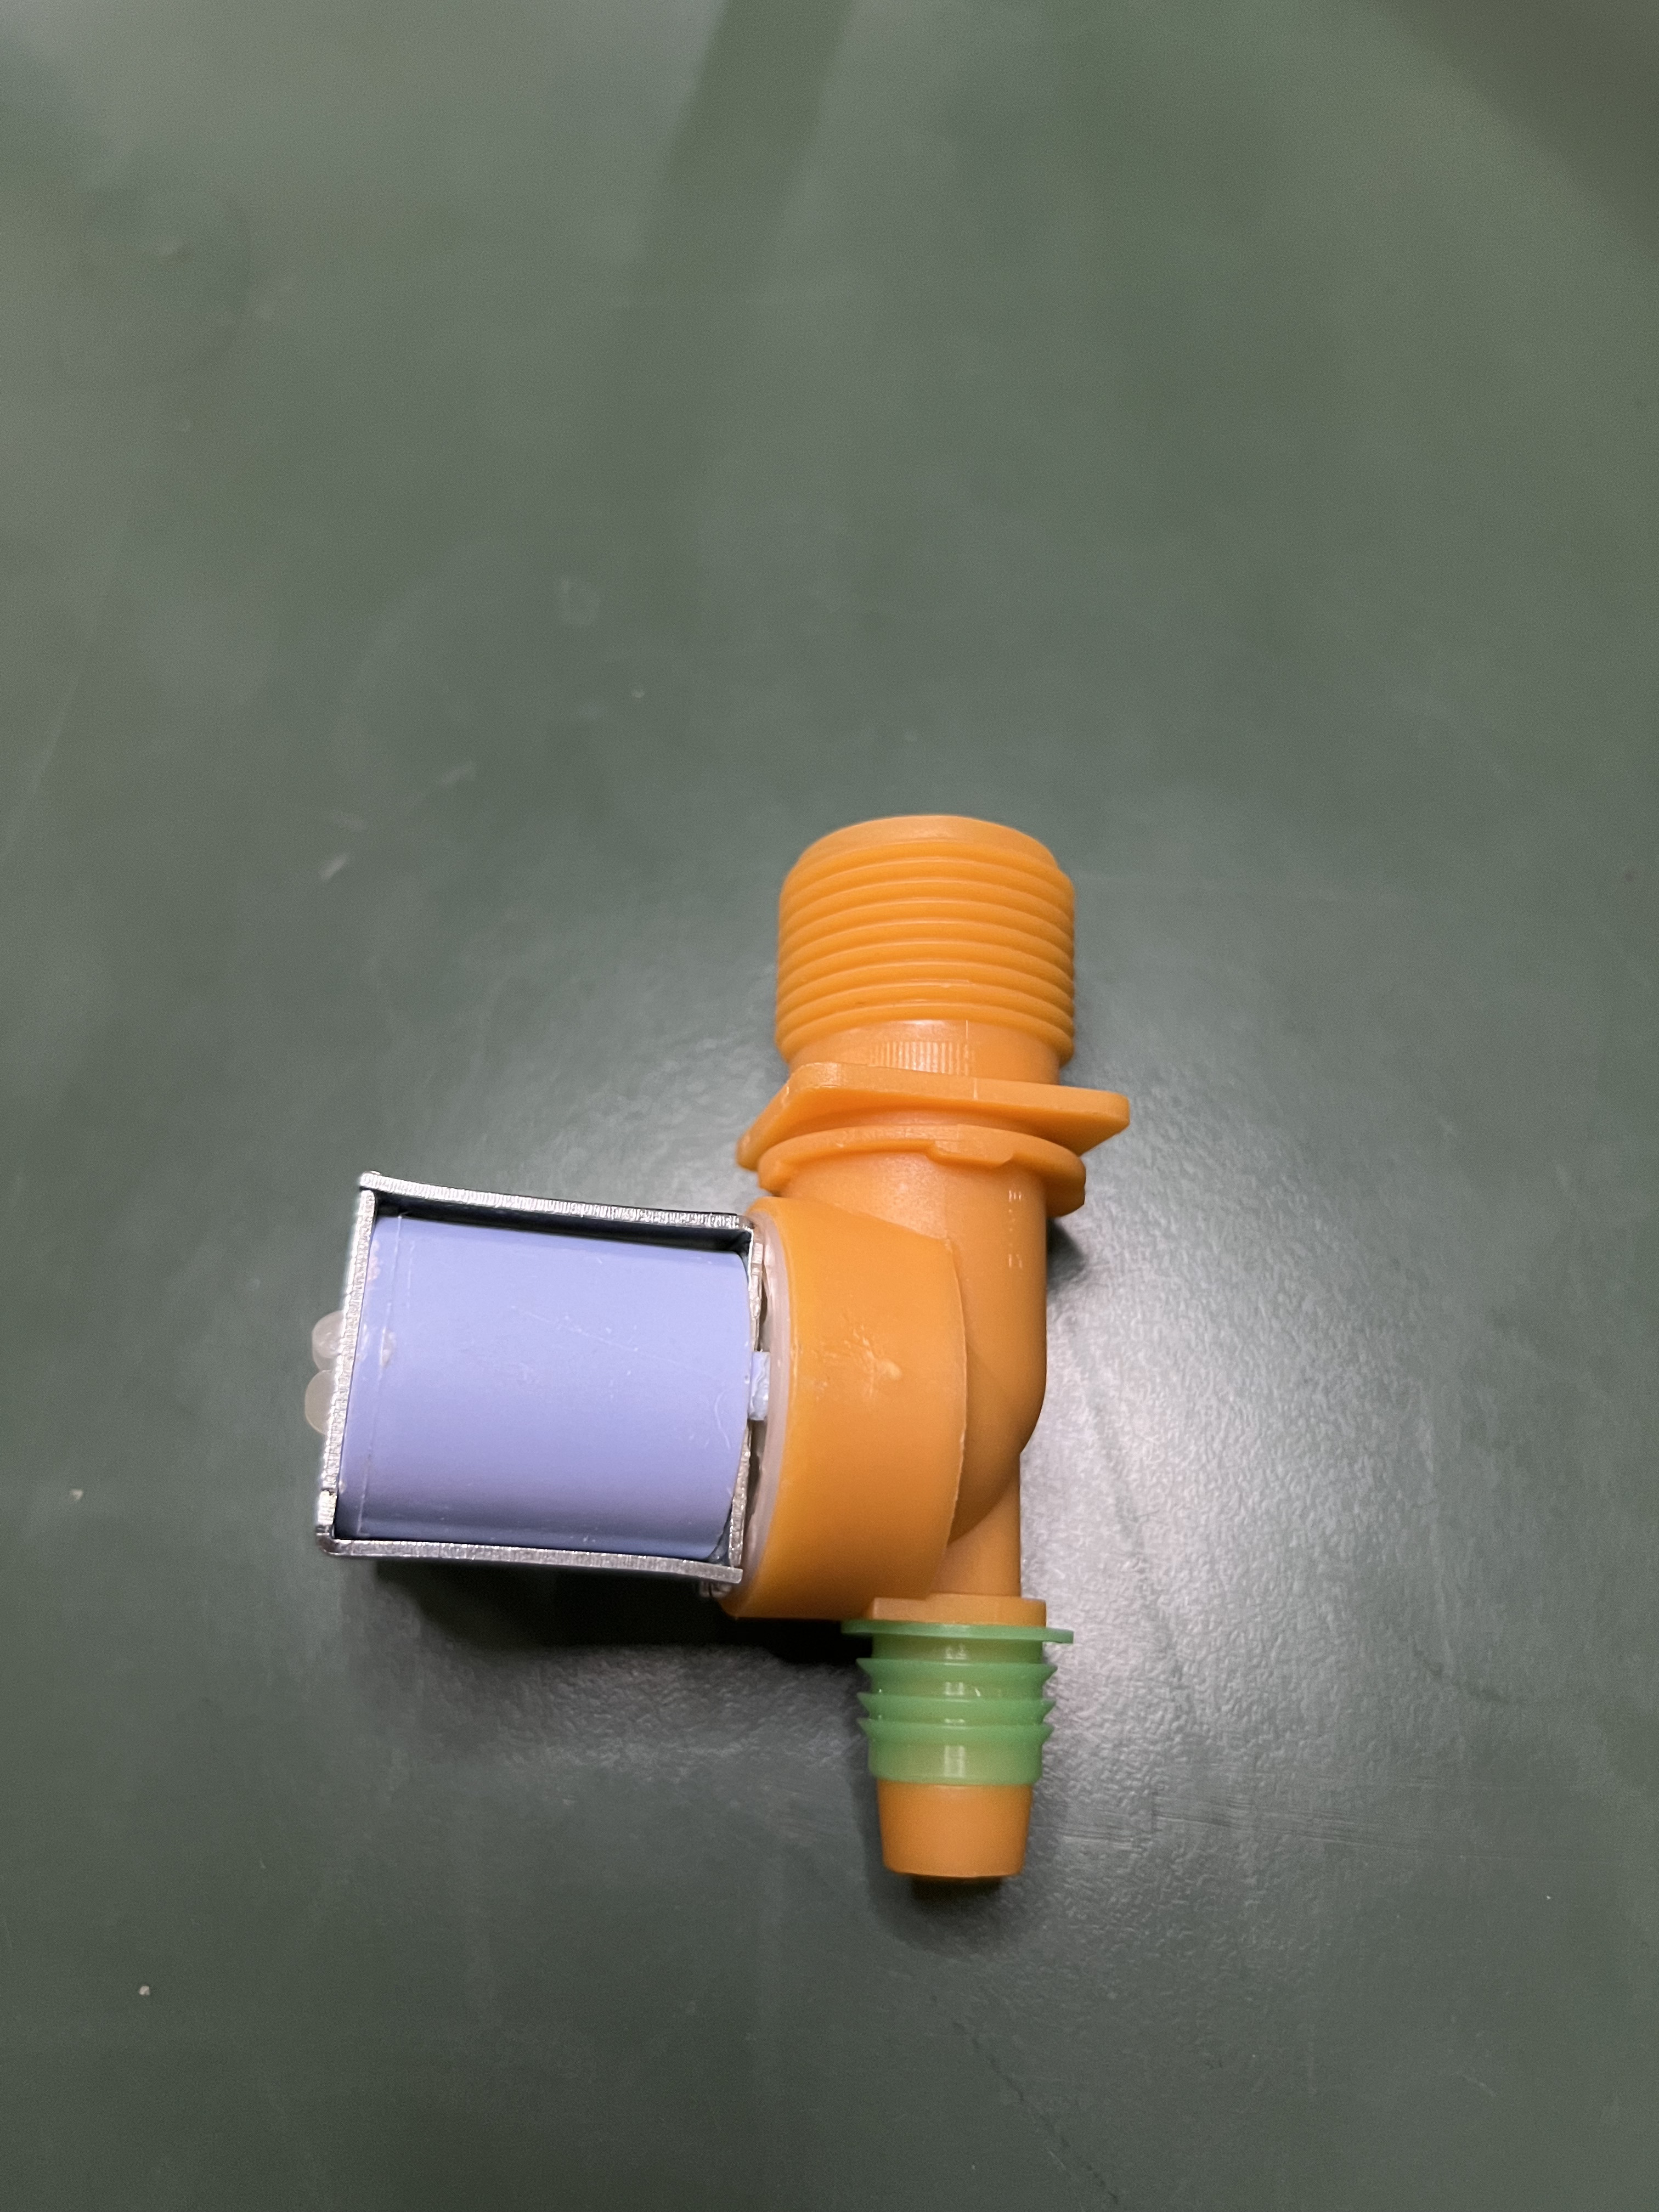ss_inlet_valves: (301, 779, 1246, 1914)
